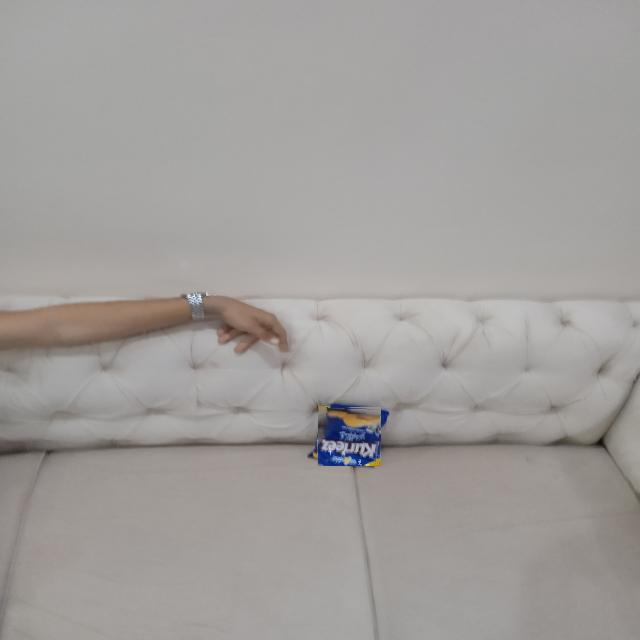Plastic: (318, 406, 381, 466)
